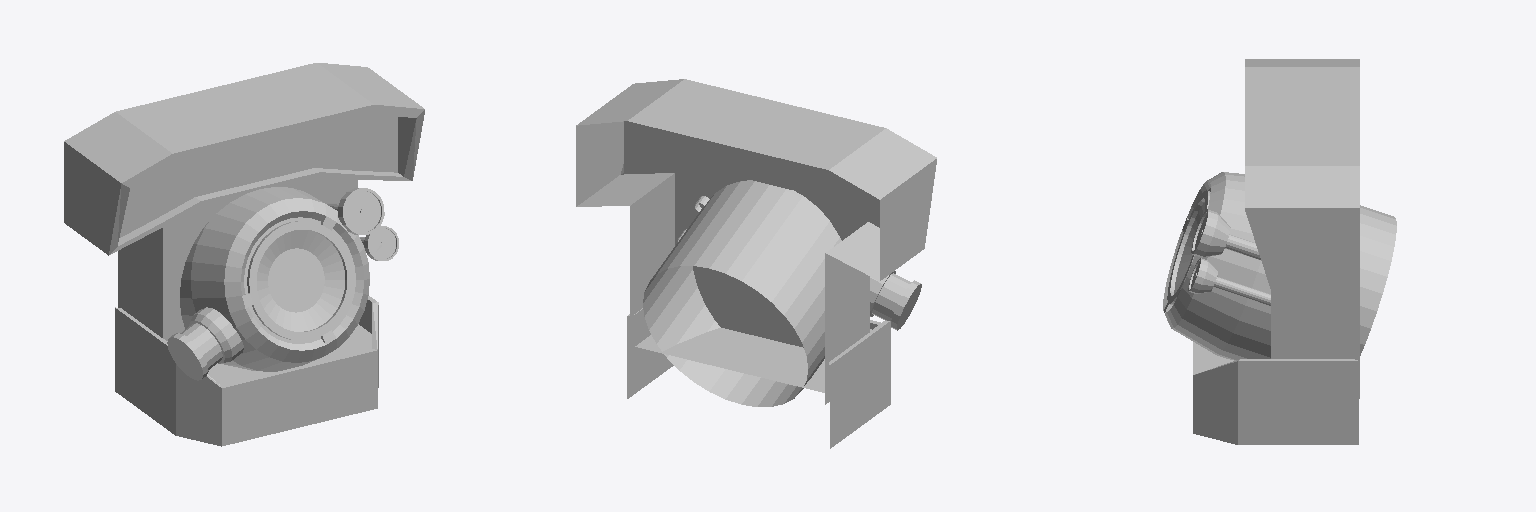
The model's file is Pack.obj.
The picture shows the model from 3 angles: view 1: azimuth 30°, elevation 25°; view 2: azimuth 150°, elevation 25°; view 3: azimuth 270°, elevation 25°; orthographic projection.
Parts seen in each view (by area): view 1: Pack-a-Punch; view 2: Pack-a-Punch; view 3: Pack-a-Punch.
Boxes of the visible parts, x1,y1,x2,y2 form: Pack-a-Punch: [64, 63, 424, 446]; Pack-a-Punch: [576, 79, 936, 448]; Pack-a-Punch: [1163, 59, 1396, 444].
Bounding box in the file's own units: 4.21 × 3.69 × 2.8.